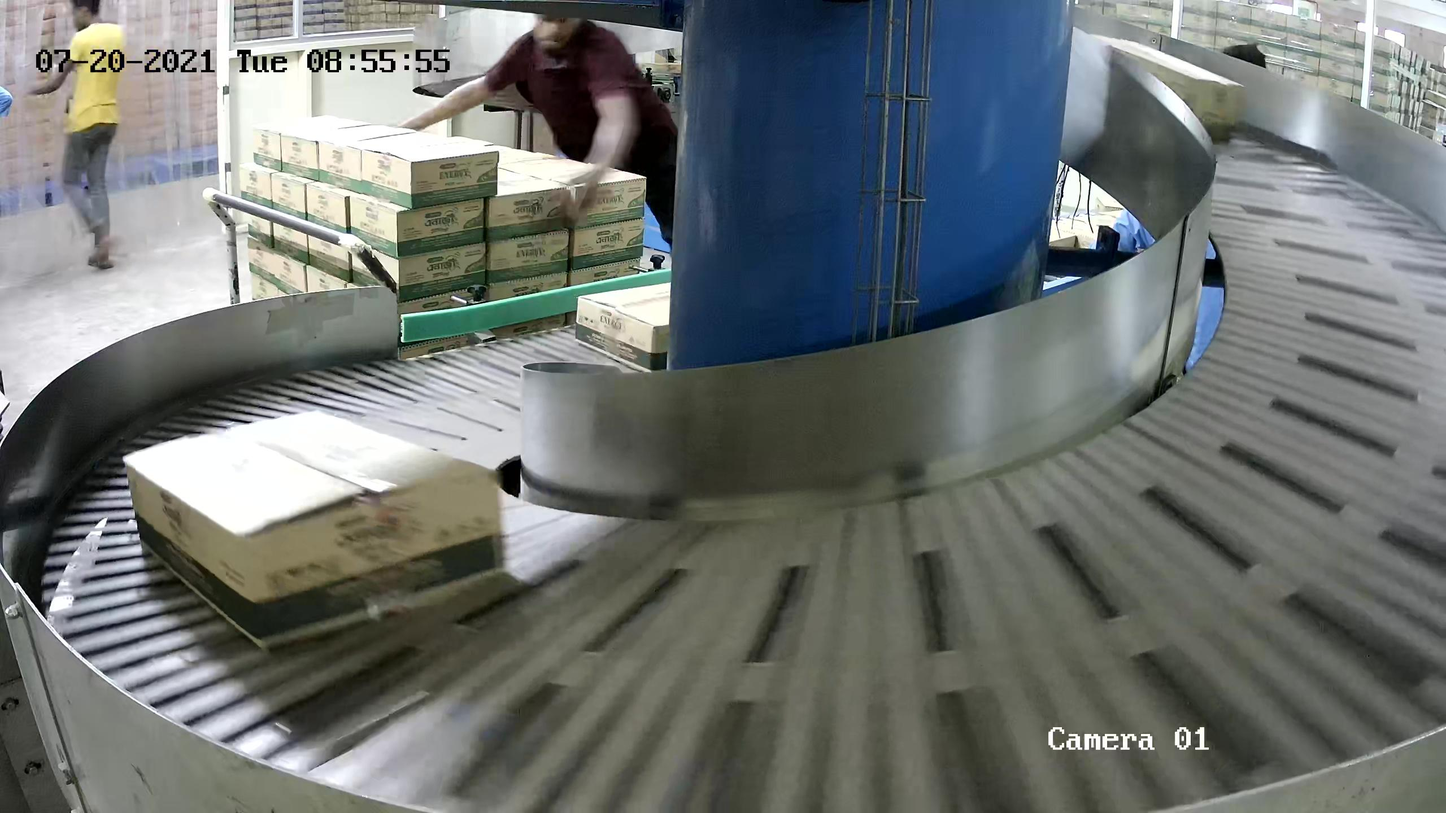Box: (121, 408, 511, 649), (1086, 32, 1246, 141), (574, 280, 672, 372)
